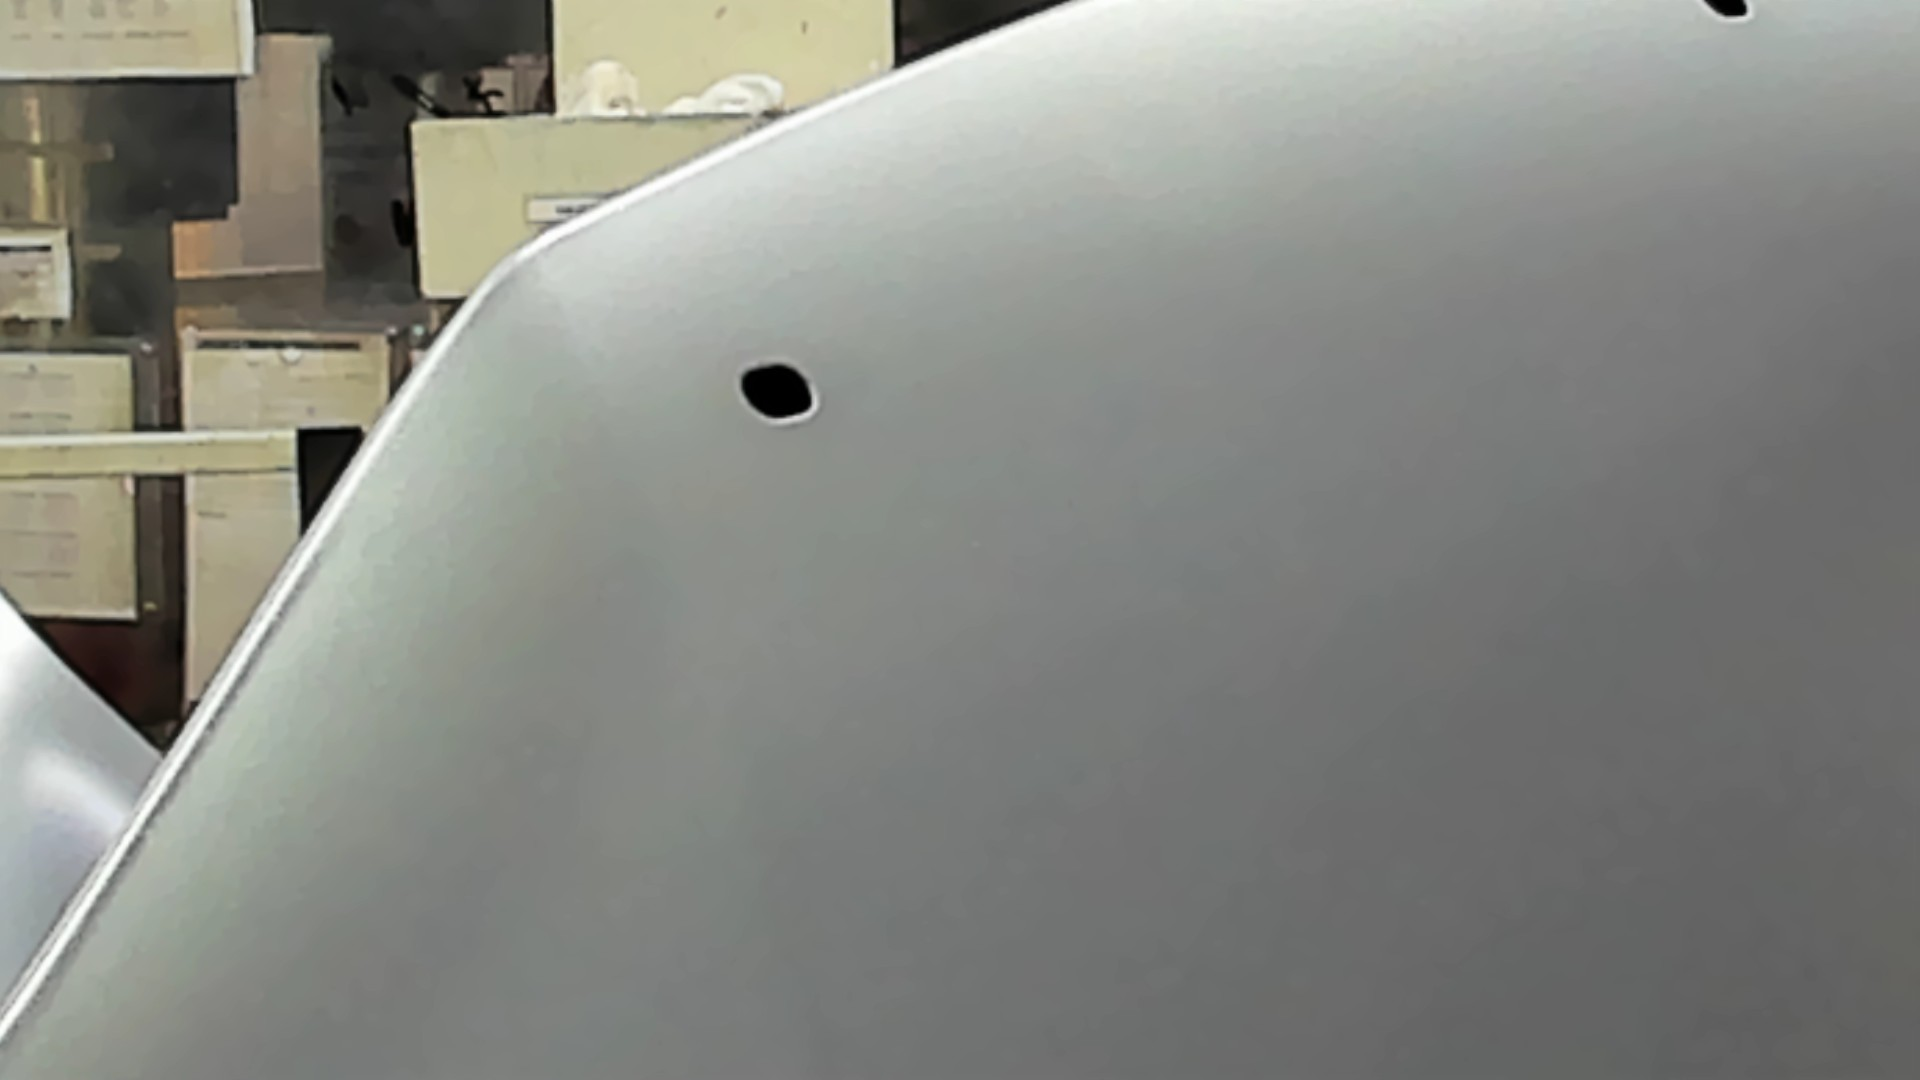amorfo: (732, 356, 822, 429), (1704, 1, 1754, 26)
